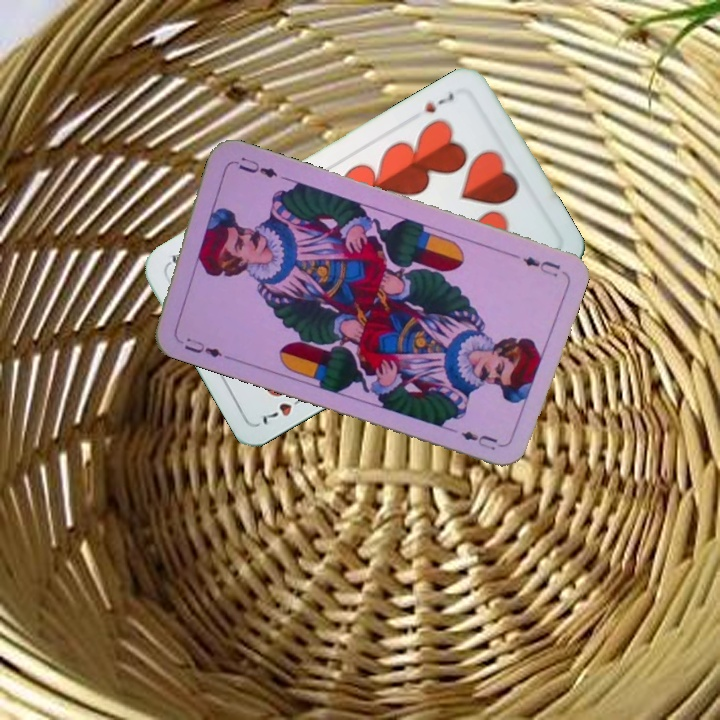EU: (172, 333, 225, 360), (518, 253, 563, 279)
H7: (258, 391, 310, 427), (420, 89, 457, 116)
